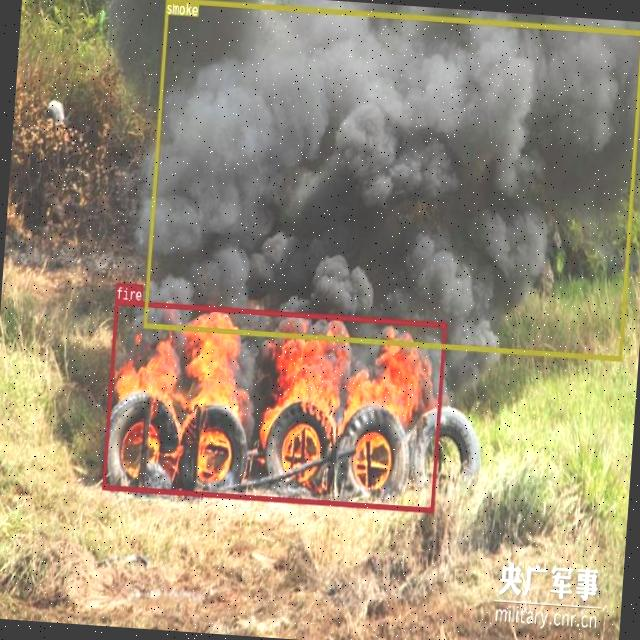fire: (101, 298, 446, 512)
smoke: (142, 0, 640, 360)
